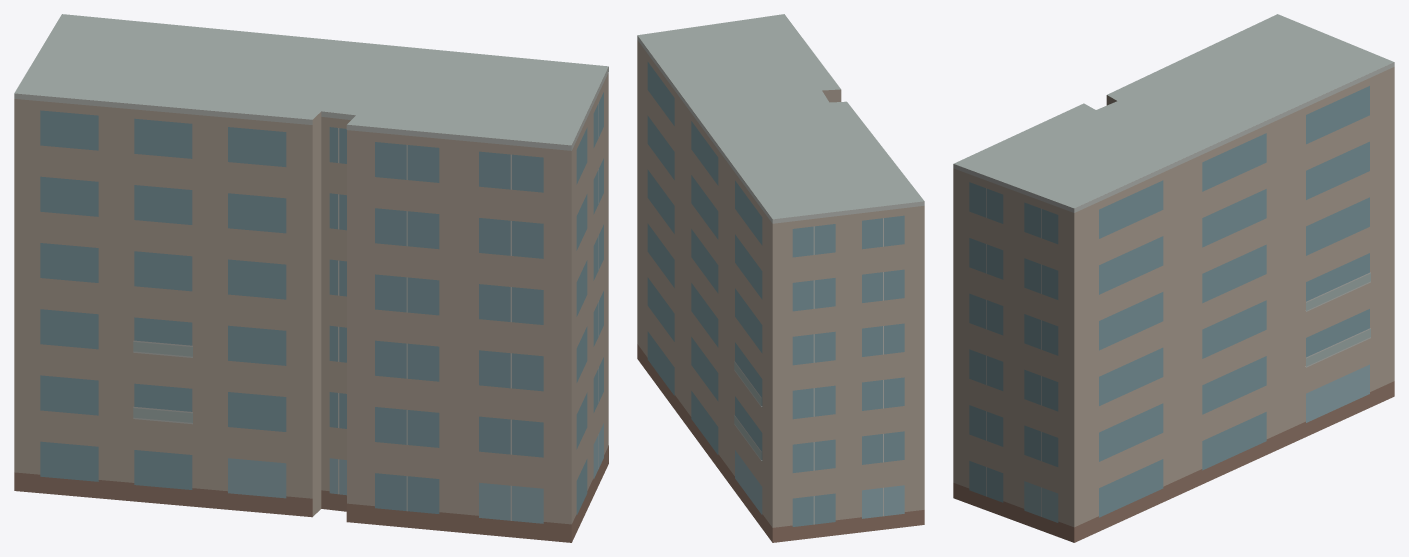
Rendered from survey-upis-32899168.glb.
3 renders of one model, left to right at view 1: azimuth 30°, elevation 25°; view 2: azimuth 150°, elevation 25°; view 3: azimuth 270°, elevation 25°, orthographic. The views are drawn at different scales.
Visible parts, largest first — view 1: survey-upis-32899168.tmp; view 2: survey-upis-32899168.tmp; view 3: survey-upis-32899168.tmp.
Boxes of the visible parts, left/top/right/bottom form: survey-upis-32899168.tmp: left=14, top=14, right=608, bottom=542; survey-upis-32899168.tmp: left=637, top=14, right=924, bottom=542; survey-upis-32899168.tmp: left=953, top=14, right=1394, bottom=542.
Size of the model in its own units: 22.34 by 17.9 by 21.41.
